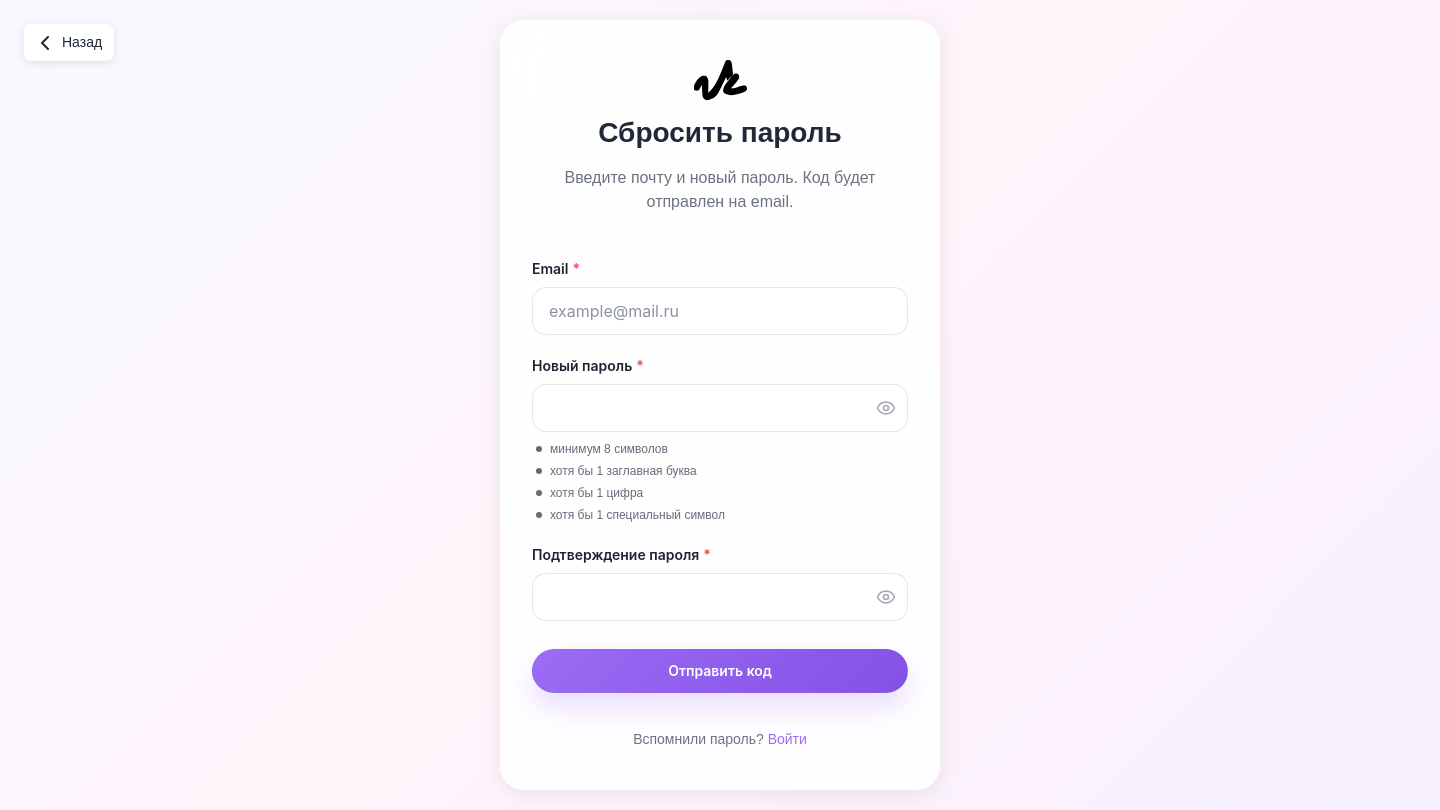
Test case: ForgotPasswordForm › shows error modal when reset request fails
The width and height of the screenshot is (1440, 810).
Type "user@example.com" into the field with placeholder "example@mail.ru" at (720, 311), box [532, 287, 908, 335]
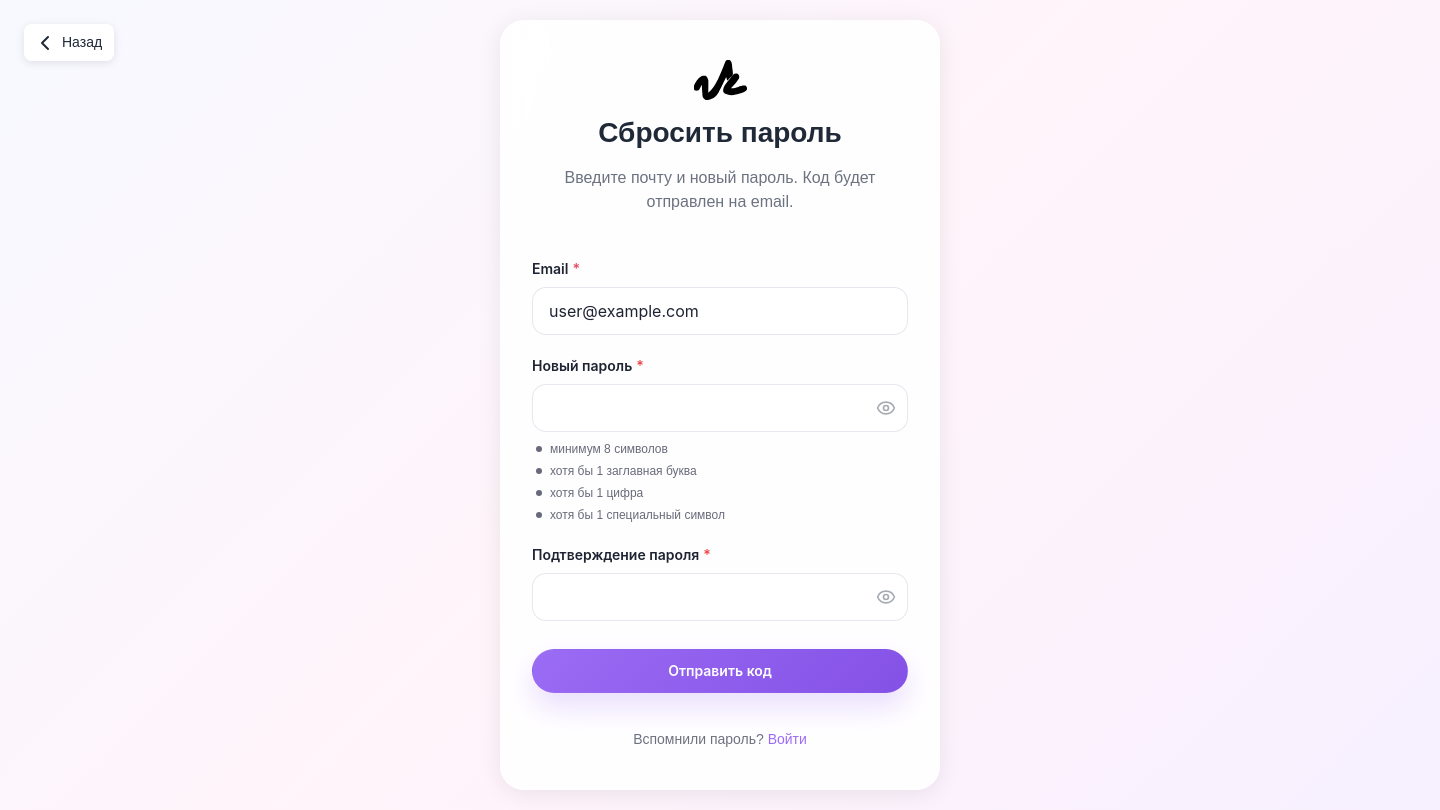
Type "StrongPass1!" into the 1st password field at (720, 408), box [532, 384, 908, 432]
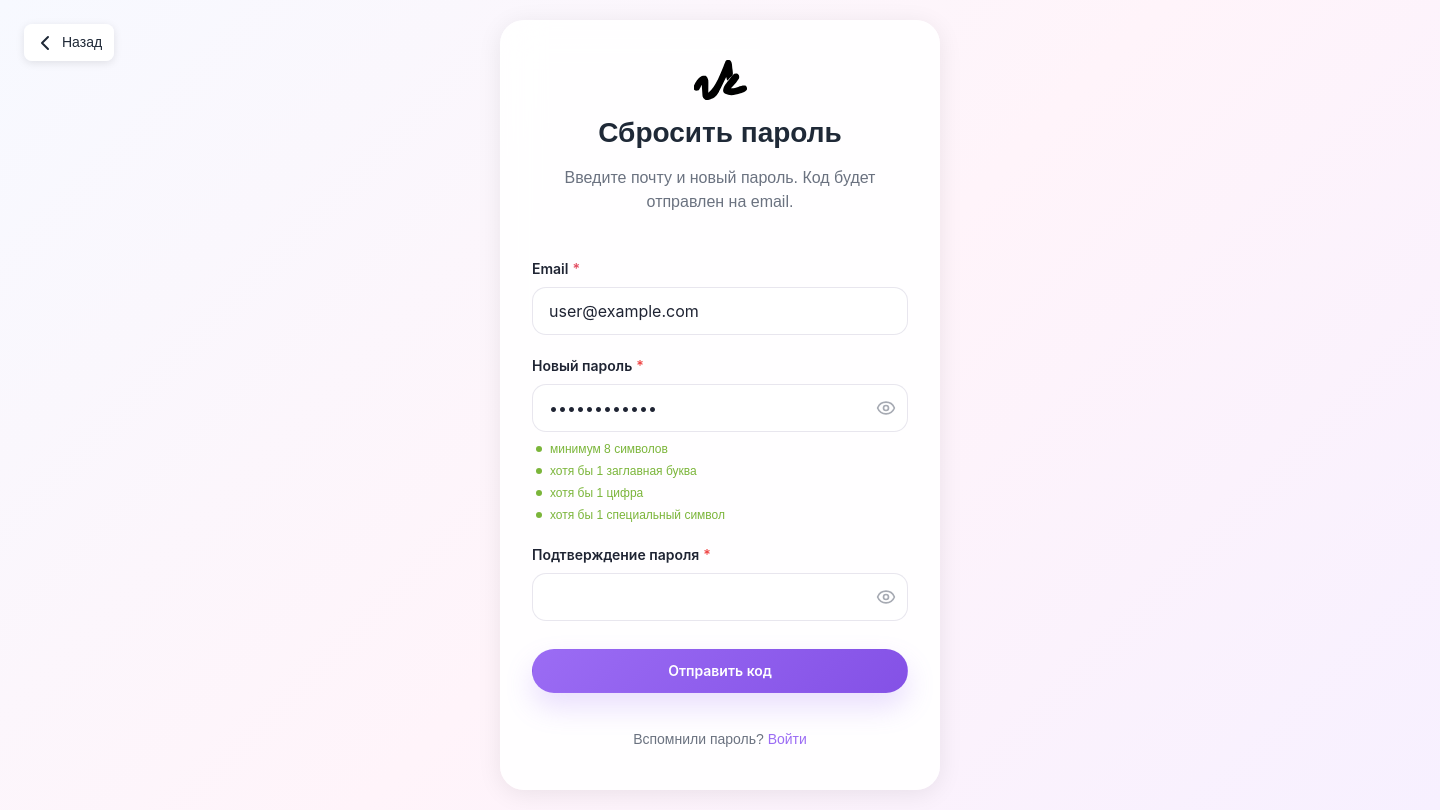
Type "StrongPass1!" into the password field below "Подтверждение пароля" at (720, 597), box [532, 573, 908, 621]
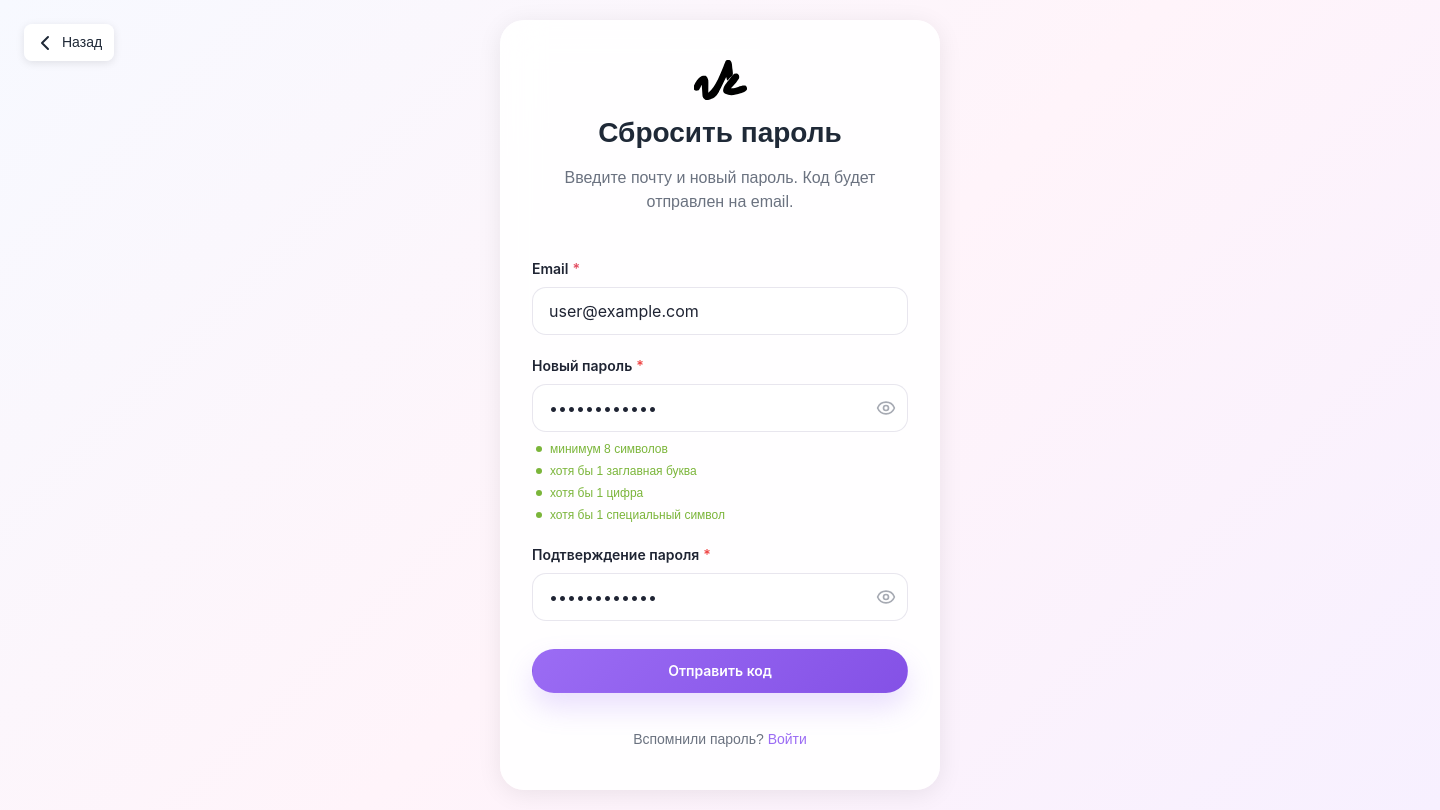
Click the button "Отправить код" at (720, 671), box [532, 649, 908, 693]
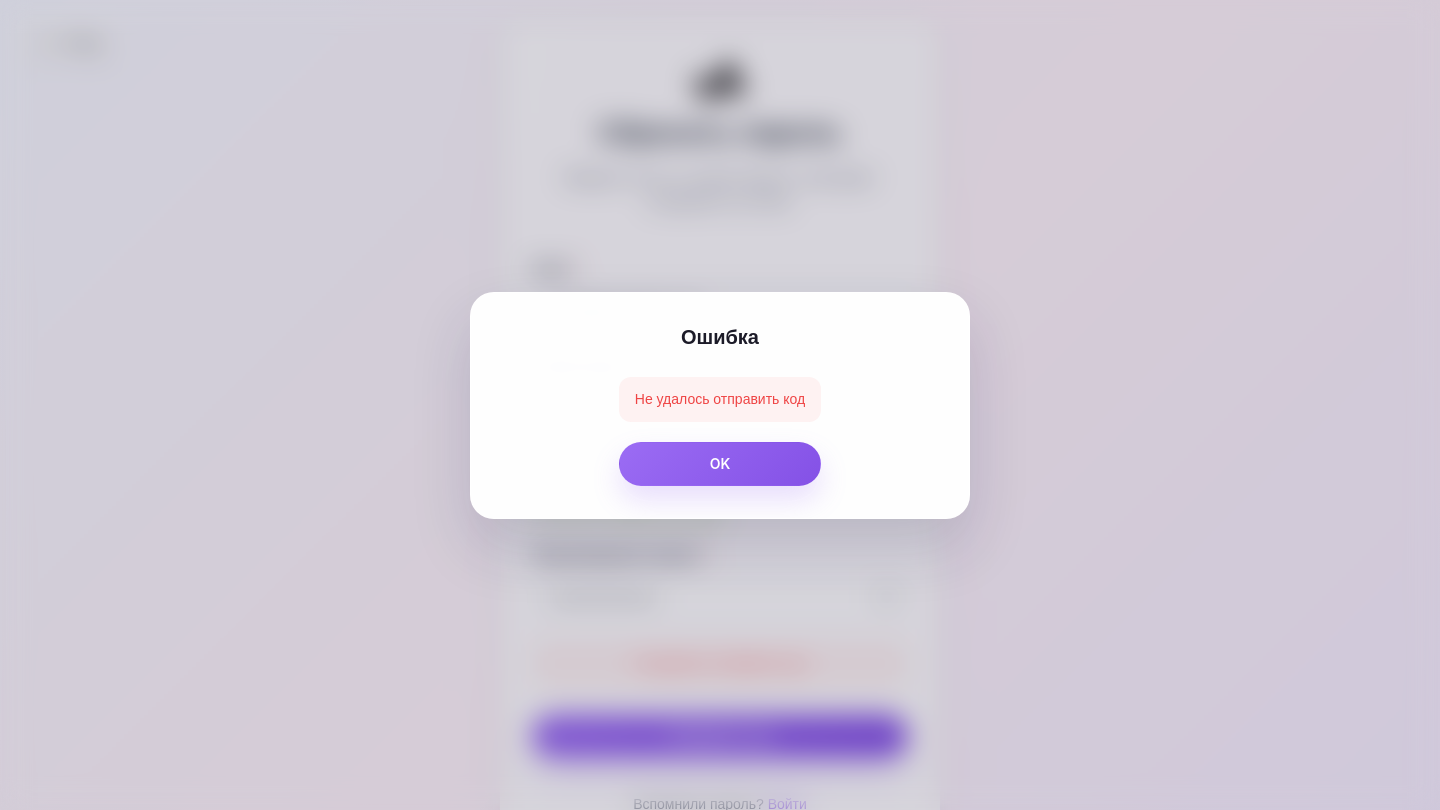
Now the heading "Ошибка" is shown, box [681, 326, 759, 348]
